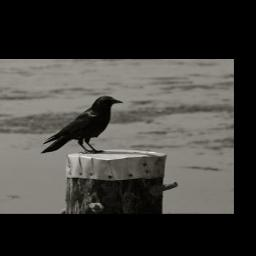Crow: (38, 94, 123, 156)
